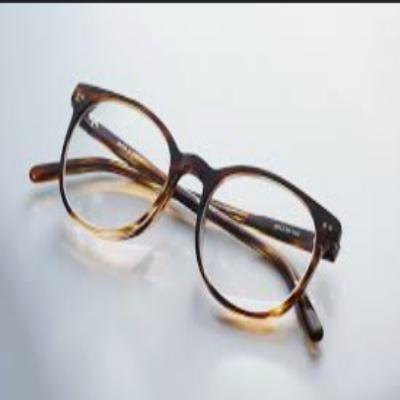glasses: (27, 80, 345, 351)
